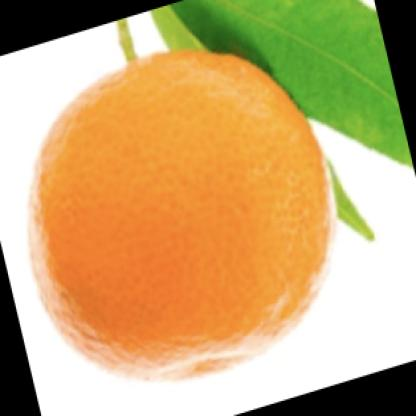fresh: (31, 49, 332, 380)
